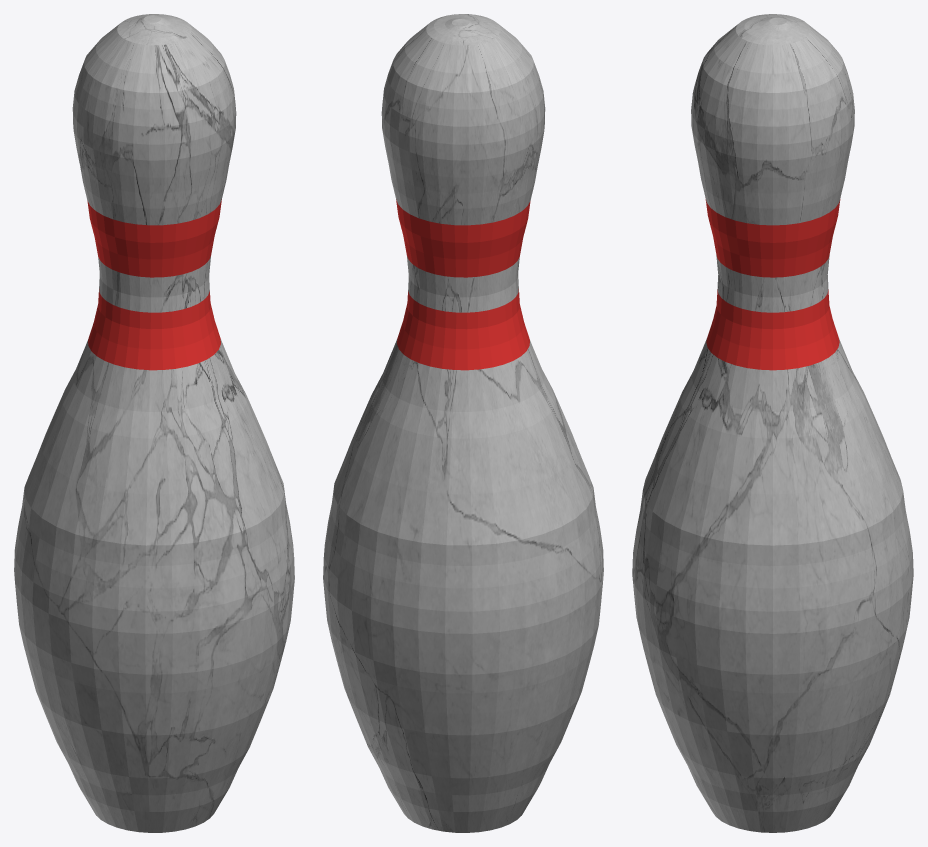
The model's file is pin.fbx.
3 views of the same model, side by side, from view 1: azimuth 30°, elevation 25°; view 2: azimuth 150°, elevation 25°; view 3: azimuth 270°, elevation 25° (orthographic).
Visible parts, largest first — view 1: Cylinder; view 2: Cylinder; view 3: Cylinder.
Part boxes in pixels (x1=…): Cylinder: x1=14, y1=14, x2=294, y2=832; Cylinder: x1=323, y1=14, x2=603, y2=832; Cylinder: x1=632, y1=14, x2=913, y2=832.
Bounding box in the file's own units: 130 × 400 × 130.
Materials: 2 (1 with a texture image).
